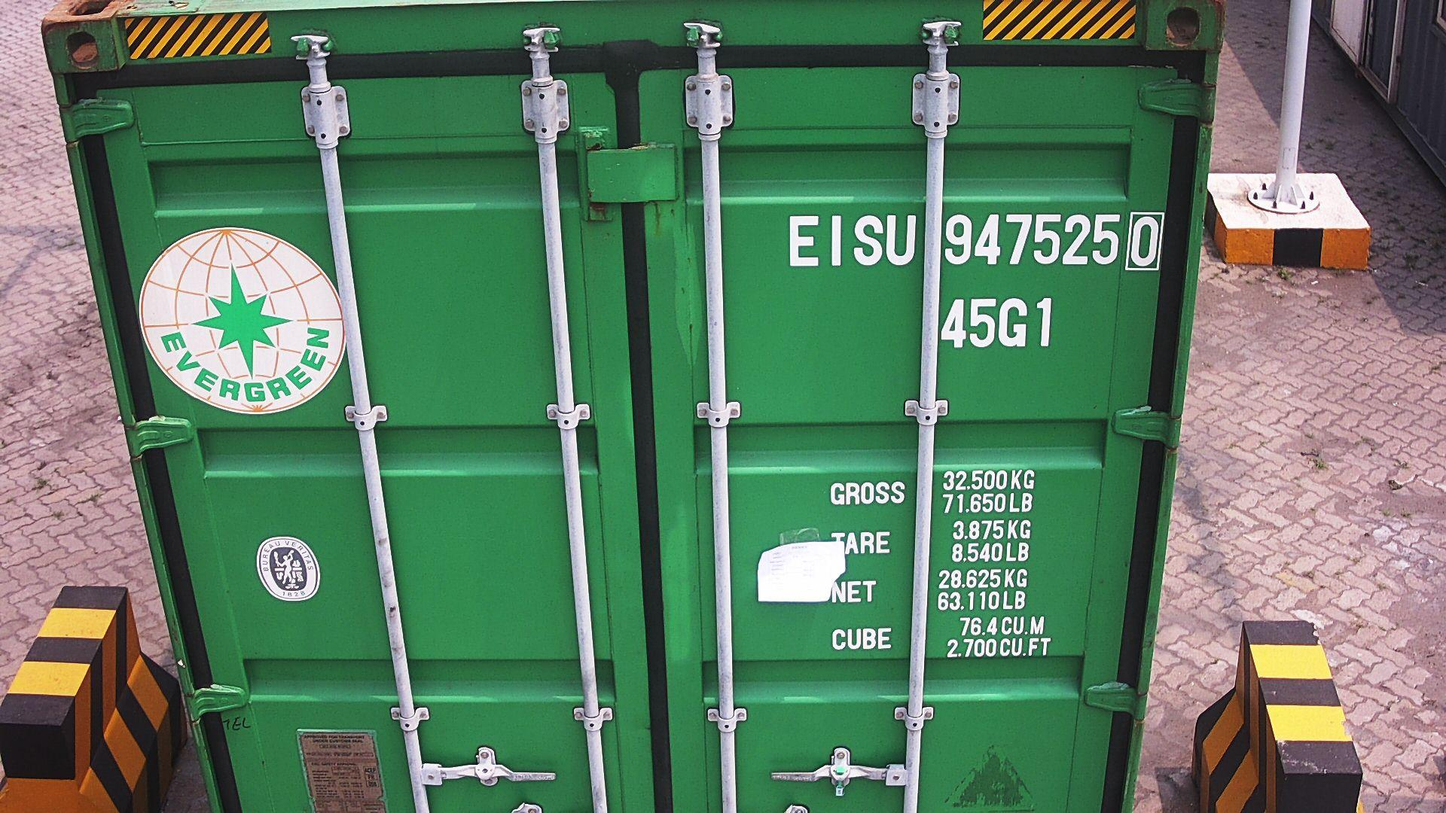container-numbers: (781, 207, 1168, 276), (936, 294, 1059, 353)
